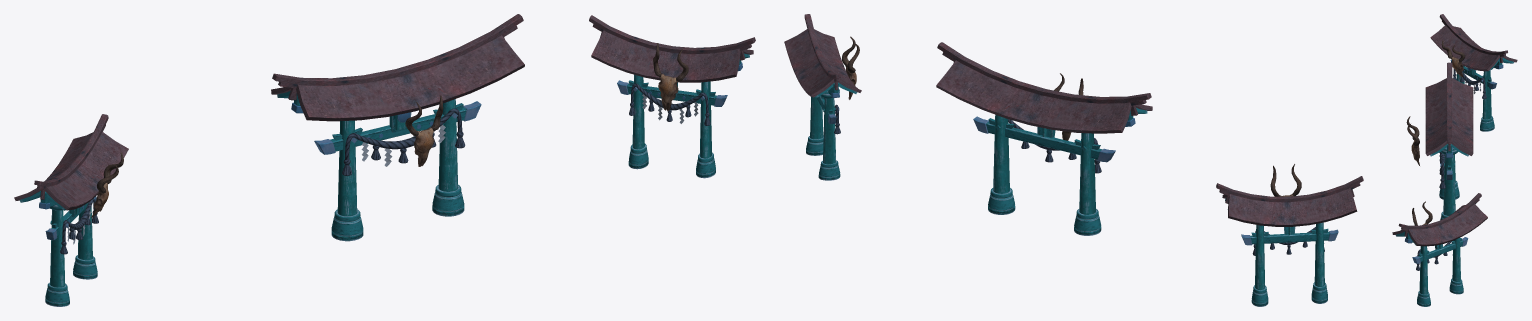
File: role_heisimou_shizhuang_battle.glb
The picture shows the model from 3 angles, left to right: view 1: azimuth 30°, elevation 25°; view 2: azimuth 150°, elevation 25°; view 3: azimuth 270°, elevation 25°; orthographic projection. The views are drawn at different scales.
Parts seen in each view (by area): view 1: eff, eff_mesh_j_heisimou_shizhuang_01 (1), eff_mesh_j_heisimou_shizhuang_01 (2), eff_mesh_j_heisimou_shizhuang_02, eff_mesh_j_heisimou_shizhuang_02 (1), eff_mesh_j_heisimou_shizhuang_02 (2); view 2: eff, eff_mesh_j_heisimou_shizhuang_01 (2), eff_mesh_j_heisimou_shizhuang_01 (1), eff_mesh_j_heisimou_shizhuang_02 (1); view 3: eff, eff_mesh_j_heisimou_shizhuang_01 (1), eff_mesh_j_heisimou_shizhuang_01 (2), eff_mesh_j_heisimou_shizhuang_02 (2), eff_mesh_j_heisimou_shizhuang_02, eff_mesh_j_heisimou_shizhuang_02 (1).
Boxes of the visible parts, box(x1,y1,x2,y2) form: eff: box(271, 14, 524, 241); eff_mesh_j_heisimou_shizhuang_01 (1): box(589, 15, 755, 178); eff_mesh_j_heisimou_shizhuang_01 (2): box(14, 114, 128, 306); eff_mesh_j_heisimou_shizhuang_02: box(405, 95, 443, 166); eff_mesh_j_heisimou_shizhuang_02 (1): box(653, 43, 688, 110); eff_mesh_j_heisimou_shizhuang_02 (2): box(91, 152, 123, 217); eff: box(936, 42, 1152, 235); eff_mesh_j_heisimou_shizhuang_01 (2): box(1216, 176, 1363, 306); eff_mesh_j_heisimou_shizhuang_01 (1): box(784, 14, 861, 180); eff_mesh_j_heisimou_shizhuang_02 (1): box(842, 36, 859, 99); eff: box(1425, 62, 1473, 219); eff_mesh_j_heisimou_shizhuang_01 (1): box(1392, 193, 1487, 306); eff_mesh_j_heisimou_shizhuang_01 (2): box(1430, 14, 1517, 131); eff_mesh_j_heisimou_shizhuang_02 (2): box(1441, 40, 1465, 77); eff_mesh_j_heisimou_shizhuang_02: box(1406, 116, 1419, 165); eff_mesh_j_heisimou_shizhuang_02 (1): box(1412, 201, 1432, 225).
Size of the model in its own units: 63.42 by 15.74 by 15.5.
Materials: 2 (2 with a texture image).
